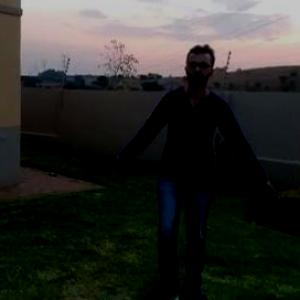land: (112, 49, 264, 284)
